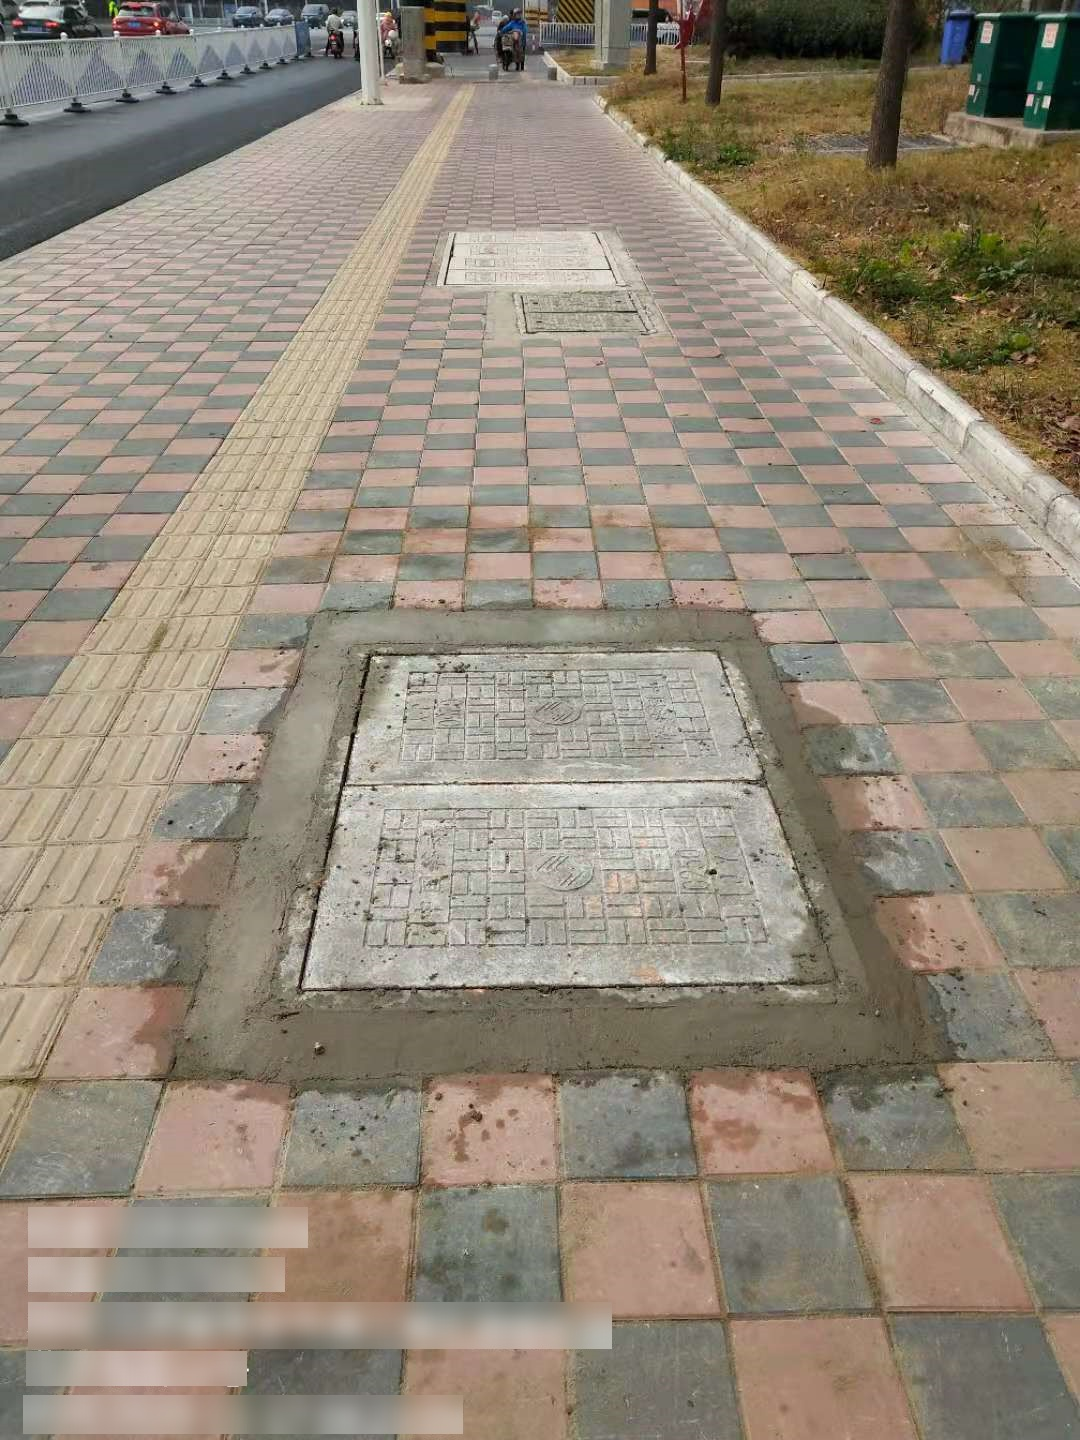good: (258, 642, 874, 1009)
